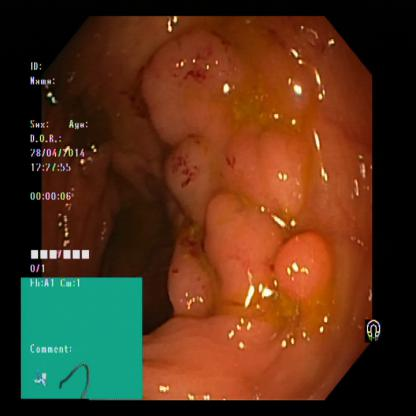Labels: (30, 60, 97, 276)
